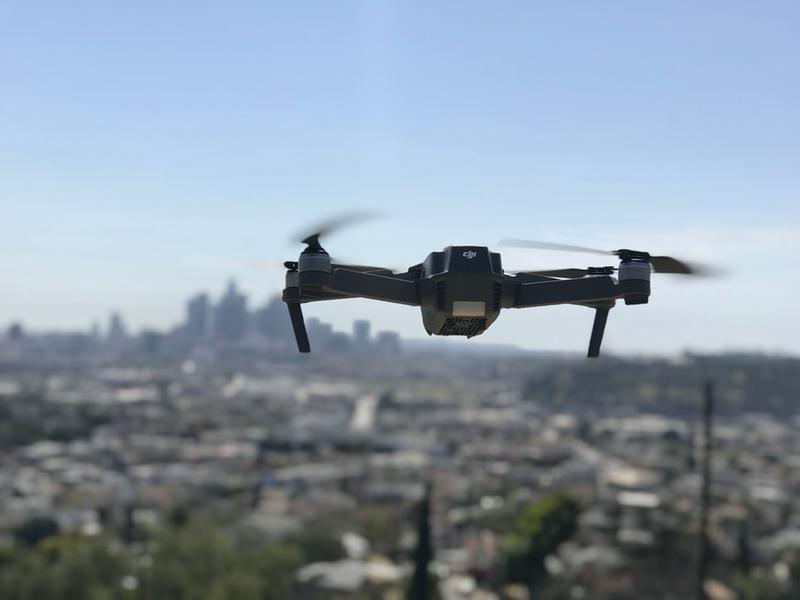enemy: (282, 233, 654, 355)
